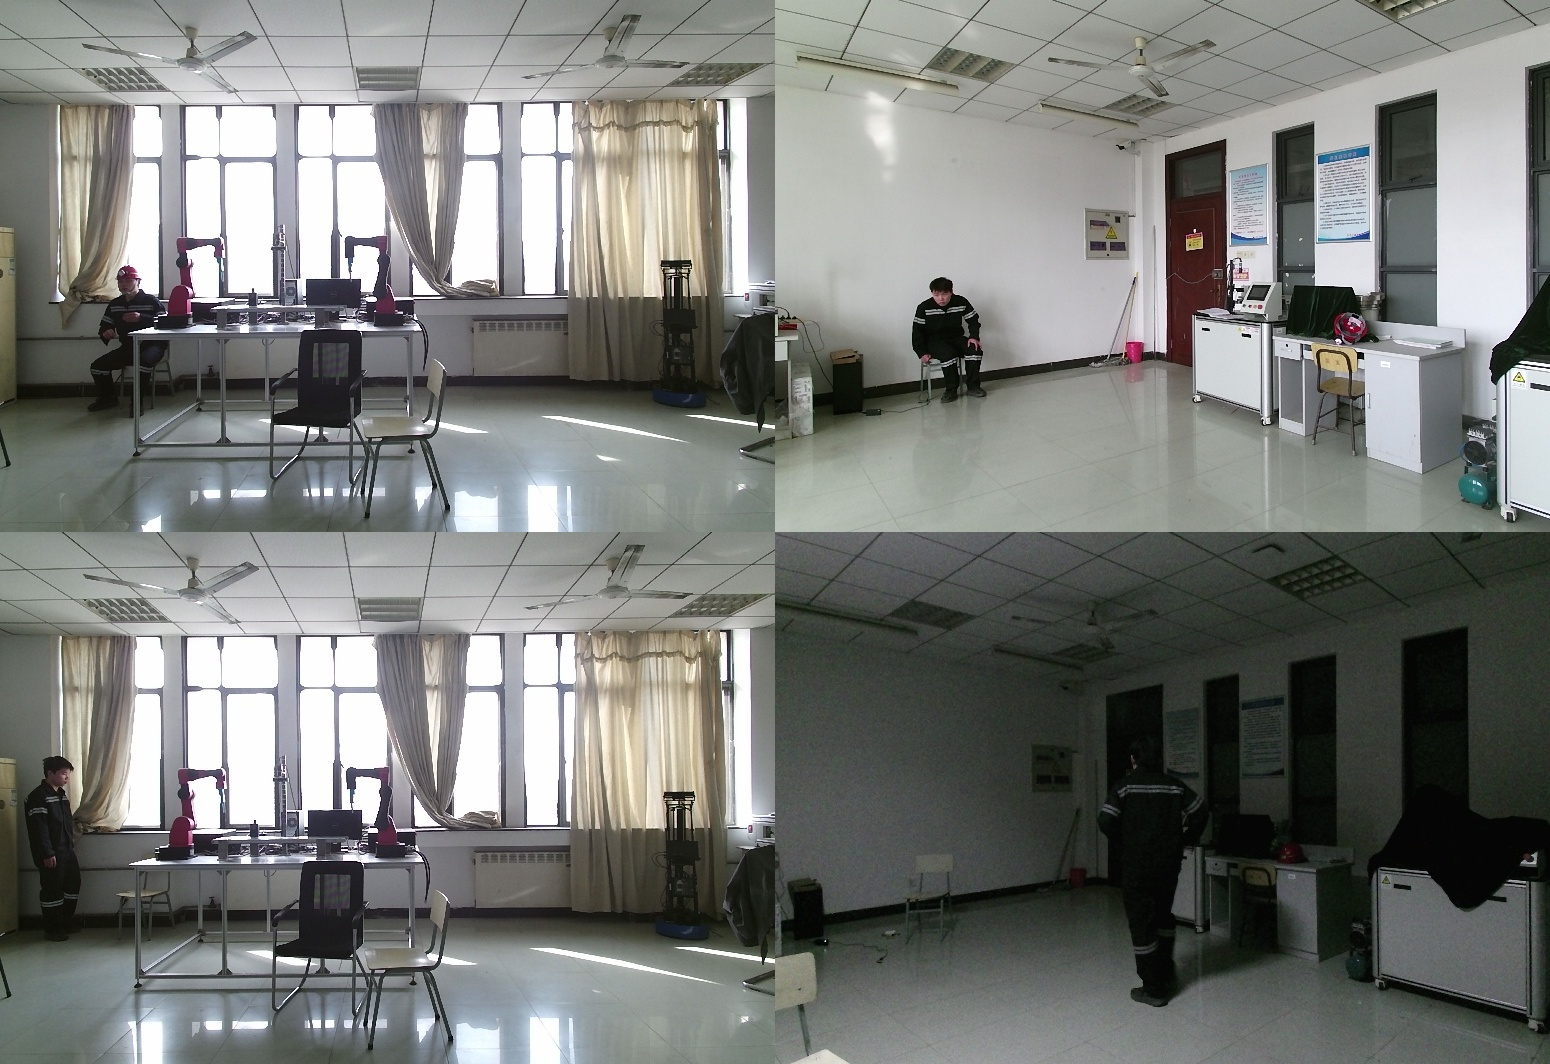person: (1101, 737, 1227, 1004), (82, 265, 179, 413), (18, 756, 81, 943), (909, 278, 989, 403)
